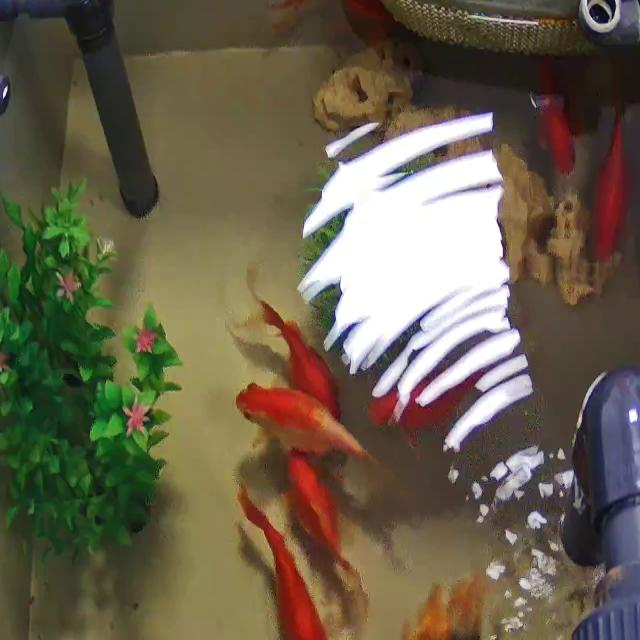fish: (231, 371, 401, 476), (228, 487, 340, 640), (234, 262, 347, 411), (288, 454, 372, 600), (519, 30, 585, 171), (376, 570, 497, 640), (592, 93, 640, 254), (370, 371, 500, 421), (264, 0, 383, 31)
